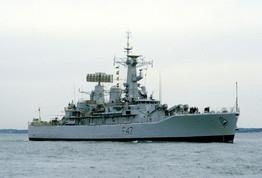warship: (27, 38, 239, 139)
